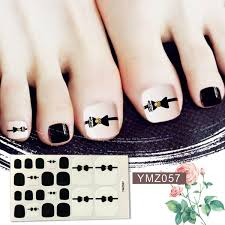nail: (8, 121, 85, 196), (131, 139, 177, 183), (185, 84, 221, 122), (201, 32, 225, 64)
